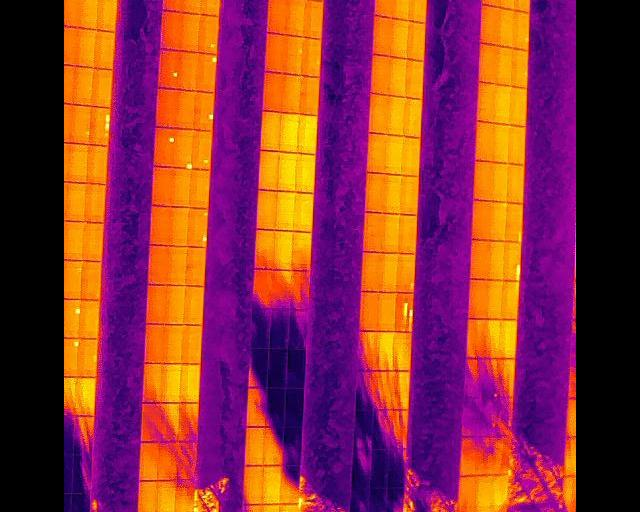Cell: (159, 50, 182, 90), (153, 127, 175, 166), (70, 104, 90, 144), (175, 127, 194, 168), (198, 52, 217, 92), (193, 129, 211, 169), (195, 91, 213, 130), (64, 297, 81, 337), (79, 338, 96, 377), (202, 15, 218, 53), (64, 337, 79, 376)
Cell-Multi: (188, 208, 208, 247), (90, 104, 110, 143), (397, 291, 414, 332)
No-Anomaly: (154, 88, 182, 127), (361, 251, 385, 292), (152, 165, 176, 205), (147, 284, 170, 323), (147, 323, 169, 363), (149, 244, 171, 284), (244, 425, 266, 464), (150, 206, 172, 245), (256, 189, 277, 229), (258, 150, 279, 190), (180, 362, 201, 402), (161, 12, 183, 50), (82, 258, 102, 299), (475, 160, 495, 201), (243, 464, 264, 503), (272, 230, 293, 269), (363, 212, 384, 251), (364, 172, 385, 211), (87, 144, 108, 183), (76, 375, 96, 415), (297, 112, 317, 152), (93, 67, 113, 107), (298, 76, 319, 114), (73, 66, 93, 105), (265, 33, 285, 72), (85, 183, 105, 222), (66, 182, 86, 221), (468, 239, 488, 278), (475, 120, 494, 161), (254, 228, 273, 268), (297, 152, 316, 192), (367, 133, 386, 173), (64, 259, 83, 299), (64, 220, 83, 260), (163, 362, 182, 402), (466, 318, 485, 358), (479, 41, 498, 81), (302, 36, 321, 75), (83, 221, 102, 260), (361, 291, 380, 330), (140, 441, 159, 480), (183, 12, 202, 51), (69, 143, 88, 182), (286, 0, 306, 37), (277, 189, 295, 230), (170, 244, 188, 285), (371, 92, 389, 133), (261, 112, 280, 150), (401, 176, 420, 214), (96, 30, 115, 68), (263, 464, 281, 504), (280, 112, 298, 152), (80, 298, 98, 338), (502, 279, 520, 319), (170, 284, 188, 324), (187, 285, 205, 325), (188, 245, 206, 285), (192, 168, 210, 208), (373, 54, 391, 94), (386, 134, 404, 174), (468, 278, 486, 318), (472, 200, 490, 240), (477, 82, 495, 122), (487, 239, 505, 279), (293, 230, 311, 269), (174, 168, 192, 207), (398, 253, 416, 292), (403, 136, 421, 175), (264, 71, 281, 112), (77, 28, 95, 66), (285, 36, 303, 74), (144, 363, 162, 401), (459, 474, 477, 512), (295, 191, 312, 231), (507, 162, 524, 202), (510, 85, 527, 125), (181, 51, 198, 91), (399, 214, 416, 254), (497, 6, 513, 48), (279, 151, 296, 190), (282, 74, 299, 113), (376, 16, 393, 55), (378, 331, 395, 370), (406, 59, 423, 98), (476, 473, 493, 512), (267, 0, 287, 33), (509, 123, 525, 164), (385, 173, 401, 214), (494, 83, 510, 124), (98, 0, 119, 31), (181, 89, 197, 129), (380, 291, 396, 331), (384, 213, 400, 253), (392, 19, 408, 59), (480, 3, 496, 43), (486, 278, 502, 318), (391, 55, 406, 97), (168, 324, 185, 361), (511, 48, 527, 87), (500, 319, 516, 358), (186, 324, 202, 363), (383, 253, 399, 292), (306, 0, 322, 38), (512, 11, 528, 49), (404, 98, 420, 136), (173, 206, 188, 246), (396, 370, 411, 410), (409, 20, 424, 60), (460, 435, 475, 475), (395, 334, 411, 371), (494, 160, 508, 202), (486, 319, 501, 358), (492, 201, 507, 240), (493, 473, 508, 512), (496, 46, 511, 85), (140, 480, 158, 512), (158, 480, 176, 512), (495, 122, 509, 163), (390, 95, 404, 135), (80, 0, 98, 29), (64, 26, 76, 64), (64, 0, 80, 26), (410, 0, 427, 22), (201, 0, 223, 15), (376, 0, 396, 16), (163, 0, 186, 12), (183, 0, 203, 13), (396, 0, 409, 20), (263, 502, 282, 512), (514, 0, 529, 11), (499, 0, 515, 9)
Shadowing: (71, 451, 92, 493), (269, 307, 290, 348), (355, 371, 377, 410), (248, 347, 269, 387), (266, 386, 287, 426), (371, 408, 392, 448), (247, 387, 267, 427), (264, 425, 284, 465), (281, 463, 301, 503), (372, 448, 391, 490), (179, 402, 199, 441), (74, 414, 94, 452), (142, 401, 161, 441), (354, 448, 372, 490), (478, 394, 496, 436), (269, 348, 288, 387), (291, 268, 310, 307), (161, 402, 180, 441), (496, 396, 514, 437), (253, 269, 272, 307), (288, 348, 307, 386), (178, 441, 197, 479), (251, 307, 269, 347), (283, 425, 301, 465), (360, 331, 378, 371), (285, 386, 303, 426), (272, 269, 291, 306), (159, 441, 177, 480), (377, 369, 395, 408), (291, 307, 308, 348), (390, 448, 407, 489), (354, 410, 372, 448), (493, 434, 510, 474), (465, 358, 483, 395), (483, 358, 501, 395), (462, 395, 478, 436), (393, 409, 409, 448), (476, 435, 492, 474), (176, 479, 194, 512), (501, 358, 516, 395), (385, 488, 404, 512), (68, 492, 90, 512), (349, 490, 368, 512), (368, 489, 385, 512), (279, 502, 298, 512), (240, 504, 263, 512)
Unclassified: (508, 202, 523, 241), (506, 241, 520, 281)
